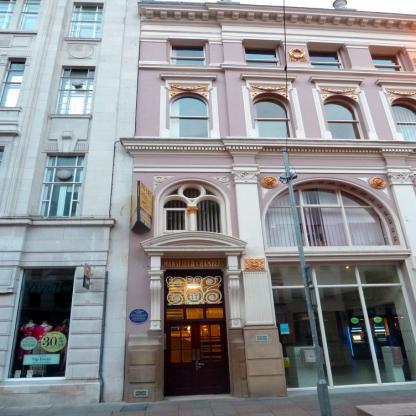door: (196, 322, 232, 394)
lever: (198, 363, 206, 366)
